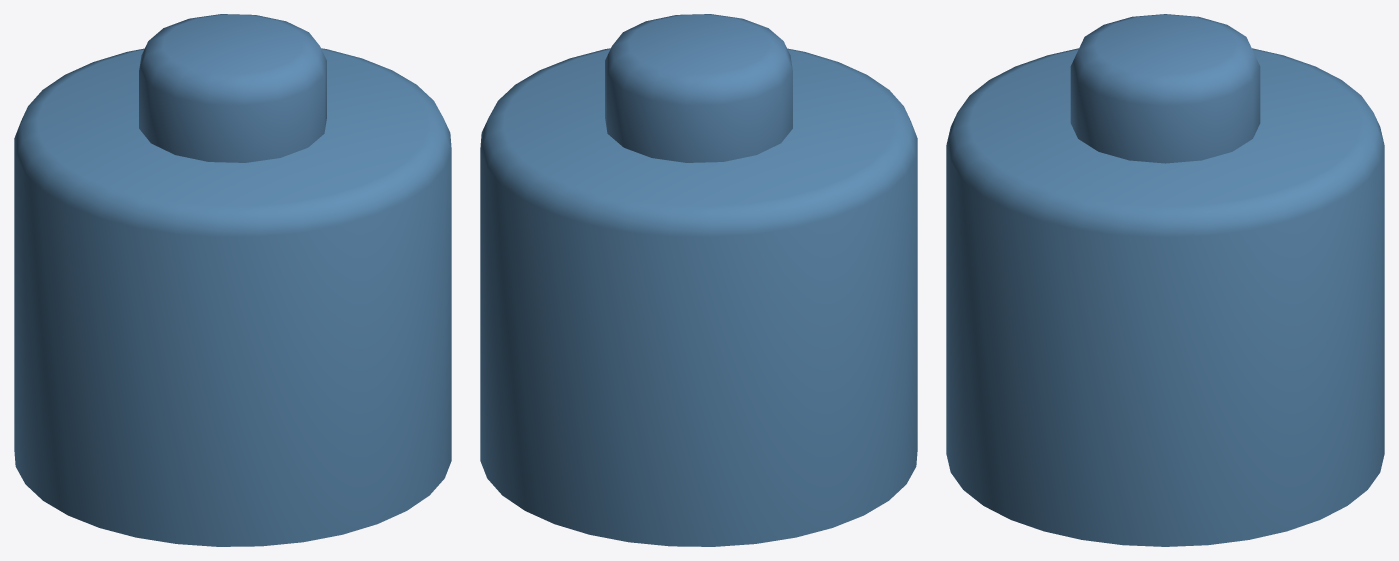
File: Lv2-B-Factory-Top.fbx
The picture shows the model from 3 angles, left to right: view 1: azimuth 30°, elevation 25°; view 2: azimuth 150°, elevation 25°; view 3: azimuth 270°, elevation 25°; orthographic projection.
Visible parts, largest first — view 1: Lv2-B-Factory-Top; view 2: Lv2-B-Factory-Top; view 3: Lv2-B-Factory-Top.
Part boxes in pixels (x1=…): Lv2-B-Factory-Top: x1=14, y1=14, x2=451, y2=546; Lv2-B-Factory-Top: x1=480, y1=14, x2=917, y2=546; Lv2-B-Factory-Top: x1=946, y1=14, x2=1384, y2=546.
Bounding box in the file's own units: 1.85 × 1.91 × 1.85.
